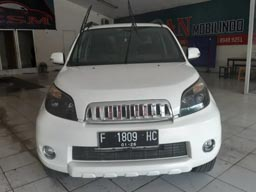plat: (98, 130, 158, 141)
